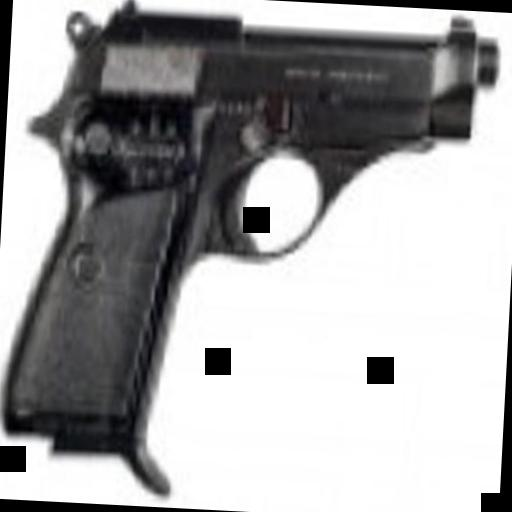Handgun: (0, 0, 498, 483)
